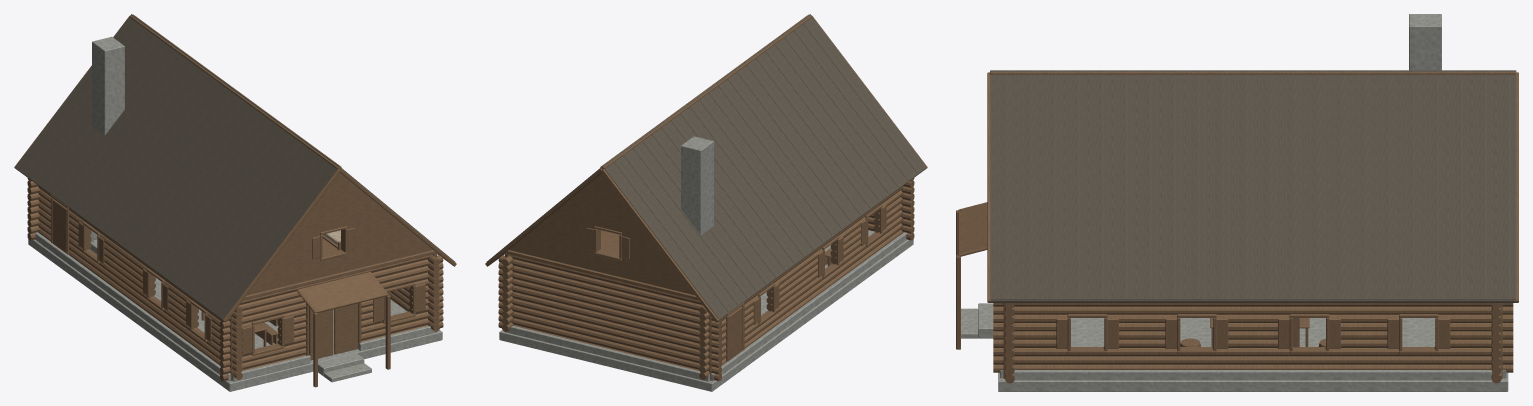
3 views of the same model, side by side, from view 1: azimuth 30°, elevation 25°; view 2: azimuth 150°, elevation 25°; view 3: azimuth 270°, elevation 25° (orthographic). The views are drawn at different scales.
Parts seen in each view (by area): view 1: T02A_roof_left, T02A_wall_front, T02A_gable_front, T02A_wall_left, T02A_foundation, T02A_entry_canopy, T02A_chimney, T02A_stonecourse_left, T02A_verge_-1_-1, T02A_stonecourse_front, T02A_entry_leaf1, T02A_wall_right (+4 smaller); view 2: T02A_roof_left, T02A_wall_rear, T02A_gable_rear, T02A_wall_left, T02A_foundation, T02A_chimney, T02A_stonecourse_left, T02A_stonecourse_rear, T02A_verge_1_-1, T02A_ridge, T02A_wall_front, T02A_wall_right (+2 smaller); view 3: T02A_roof_right, T02A_wall_right, T02A_foundation, T02A_stonecourse_right, T02A_entry_canopy, T02A_chimney, T02A_ridge, T02A_wall_front, T02A_wall_rear, T02A_verge_-1_-1, T02A_verge_1_-1.
Boxes of the visible parts, left/top/right/bottom form: T02A_roof_left: left=15, top=14, right=339, bottom=319; T02A_wall_front: left=219, top=226, right=443, bottom=381; T02A_gable_front: left=247, top=173, right=432, bottom=295; T02A_wall_left: left=38, top=186, right=242, bottom=379; T02A_foundation: left=28, top=239, right=442, bottom=391; T02A_entry_canopy: left=296, top=272, right=390, bottom=387; T02A_chimney: left=92, top=36, right=124, bottom=135; T02A_stonecourse_left: left=35, top=232, right=230, bottom=381; T02A_verge_-1_-1: left=222, top=168, right=456, bottom=322; T02A_stonecourse_front: left=232, top=326, right=436, bottom=381; T02A_entry_leaf1: left=334, top=303, right=358, bottom=354; T02A_wall_right: left=387, top=256, right=439, bottom=331; T02A_roof_left: left=602, top=14, right=926, bottom=319; T02A_wall_rear: left=498, top=226, right=722, bottom=381; T02A_gable_rear: left=509, top=173, right=694, bottom=295; T02A_wall_left: left=699, top=186, right=903, bottom=379; T02A_foundation: left=499, top=230, right=913, bottom=391; T02A_chimney: left=681, top=136, right=713, bottom=234; T02A_stonecourse_left: left=711, top=232, right=906, bottom=381; T02A_stonecourse_rear: left=505, top=326, right=709, bottom=381; T02A_verge_1_-1: left=485, top=168, right=719, bottom=322; T02A_ridge: left=600, top=14, right=812, bottom=169; T02A_wall_front: left=868, top=178, right=914, bottom=240; T02A_wall_right: left=502, top=256, right=513, bottom=331; T02A_roof_right: left=990, top=70, right=1516, bottom=302; T02A_wall_right: left=993, top=303, right=1513, bottom=372; T02A_foundation: left=961, top=303, right=1508, bottom=391; T02A_stonecourse_right: left=1005, top=370, right=1501, bottom=380; T02A_entry_canopy: left=956, top=202, right=987, bottom=349; T02A_chimney: left=1409, top=14, right=1441, bottom=70; T02A_ridge: left=990, top=70, right=1516, bottom=75; T02A_wall_front: left=1003, top=303, right=1014, bottom=383; T02A_wall_rear: left=1491, top=303, right=1502, bottom=383; T02A_verge_-1_-1: left=987, top=72, right=991, bottom=302; T02A_verge_1_-1: left=1514, top=72, right=1518, bottom=302.
Size of the model in its own units: 10.28 by 9 by 17.
5 materials, 4 textured.
